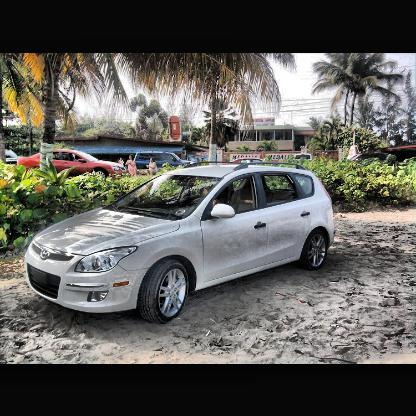Hyundai Elantra Touring Hatchback 2012: (24, 160, 336, 316)
